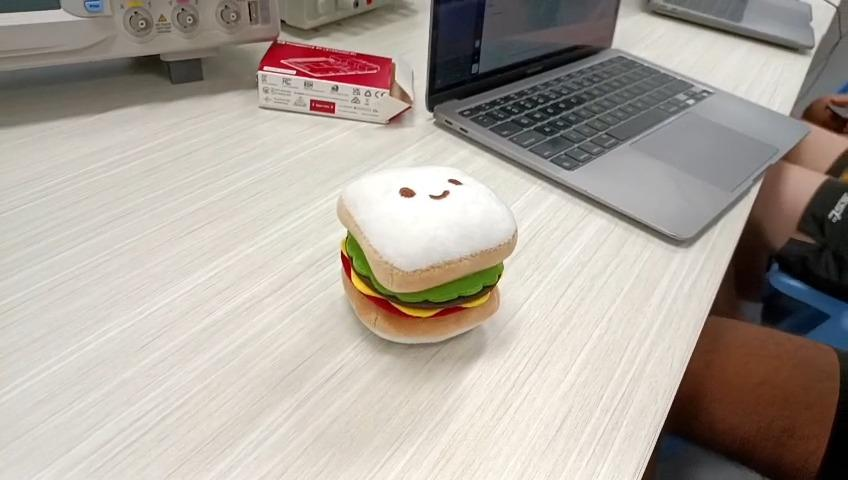objects: (336, 161, 523, 347)
